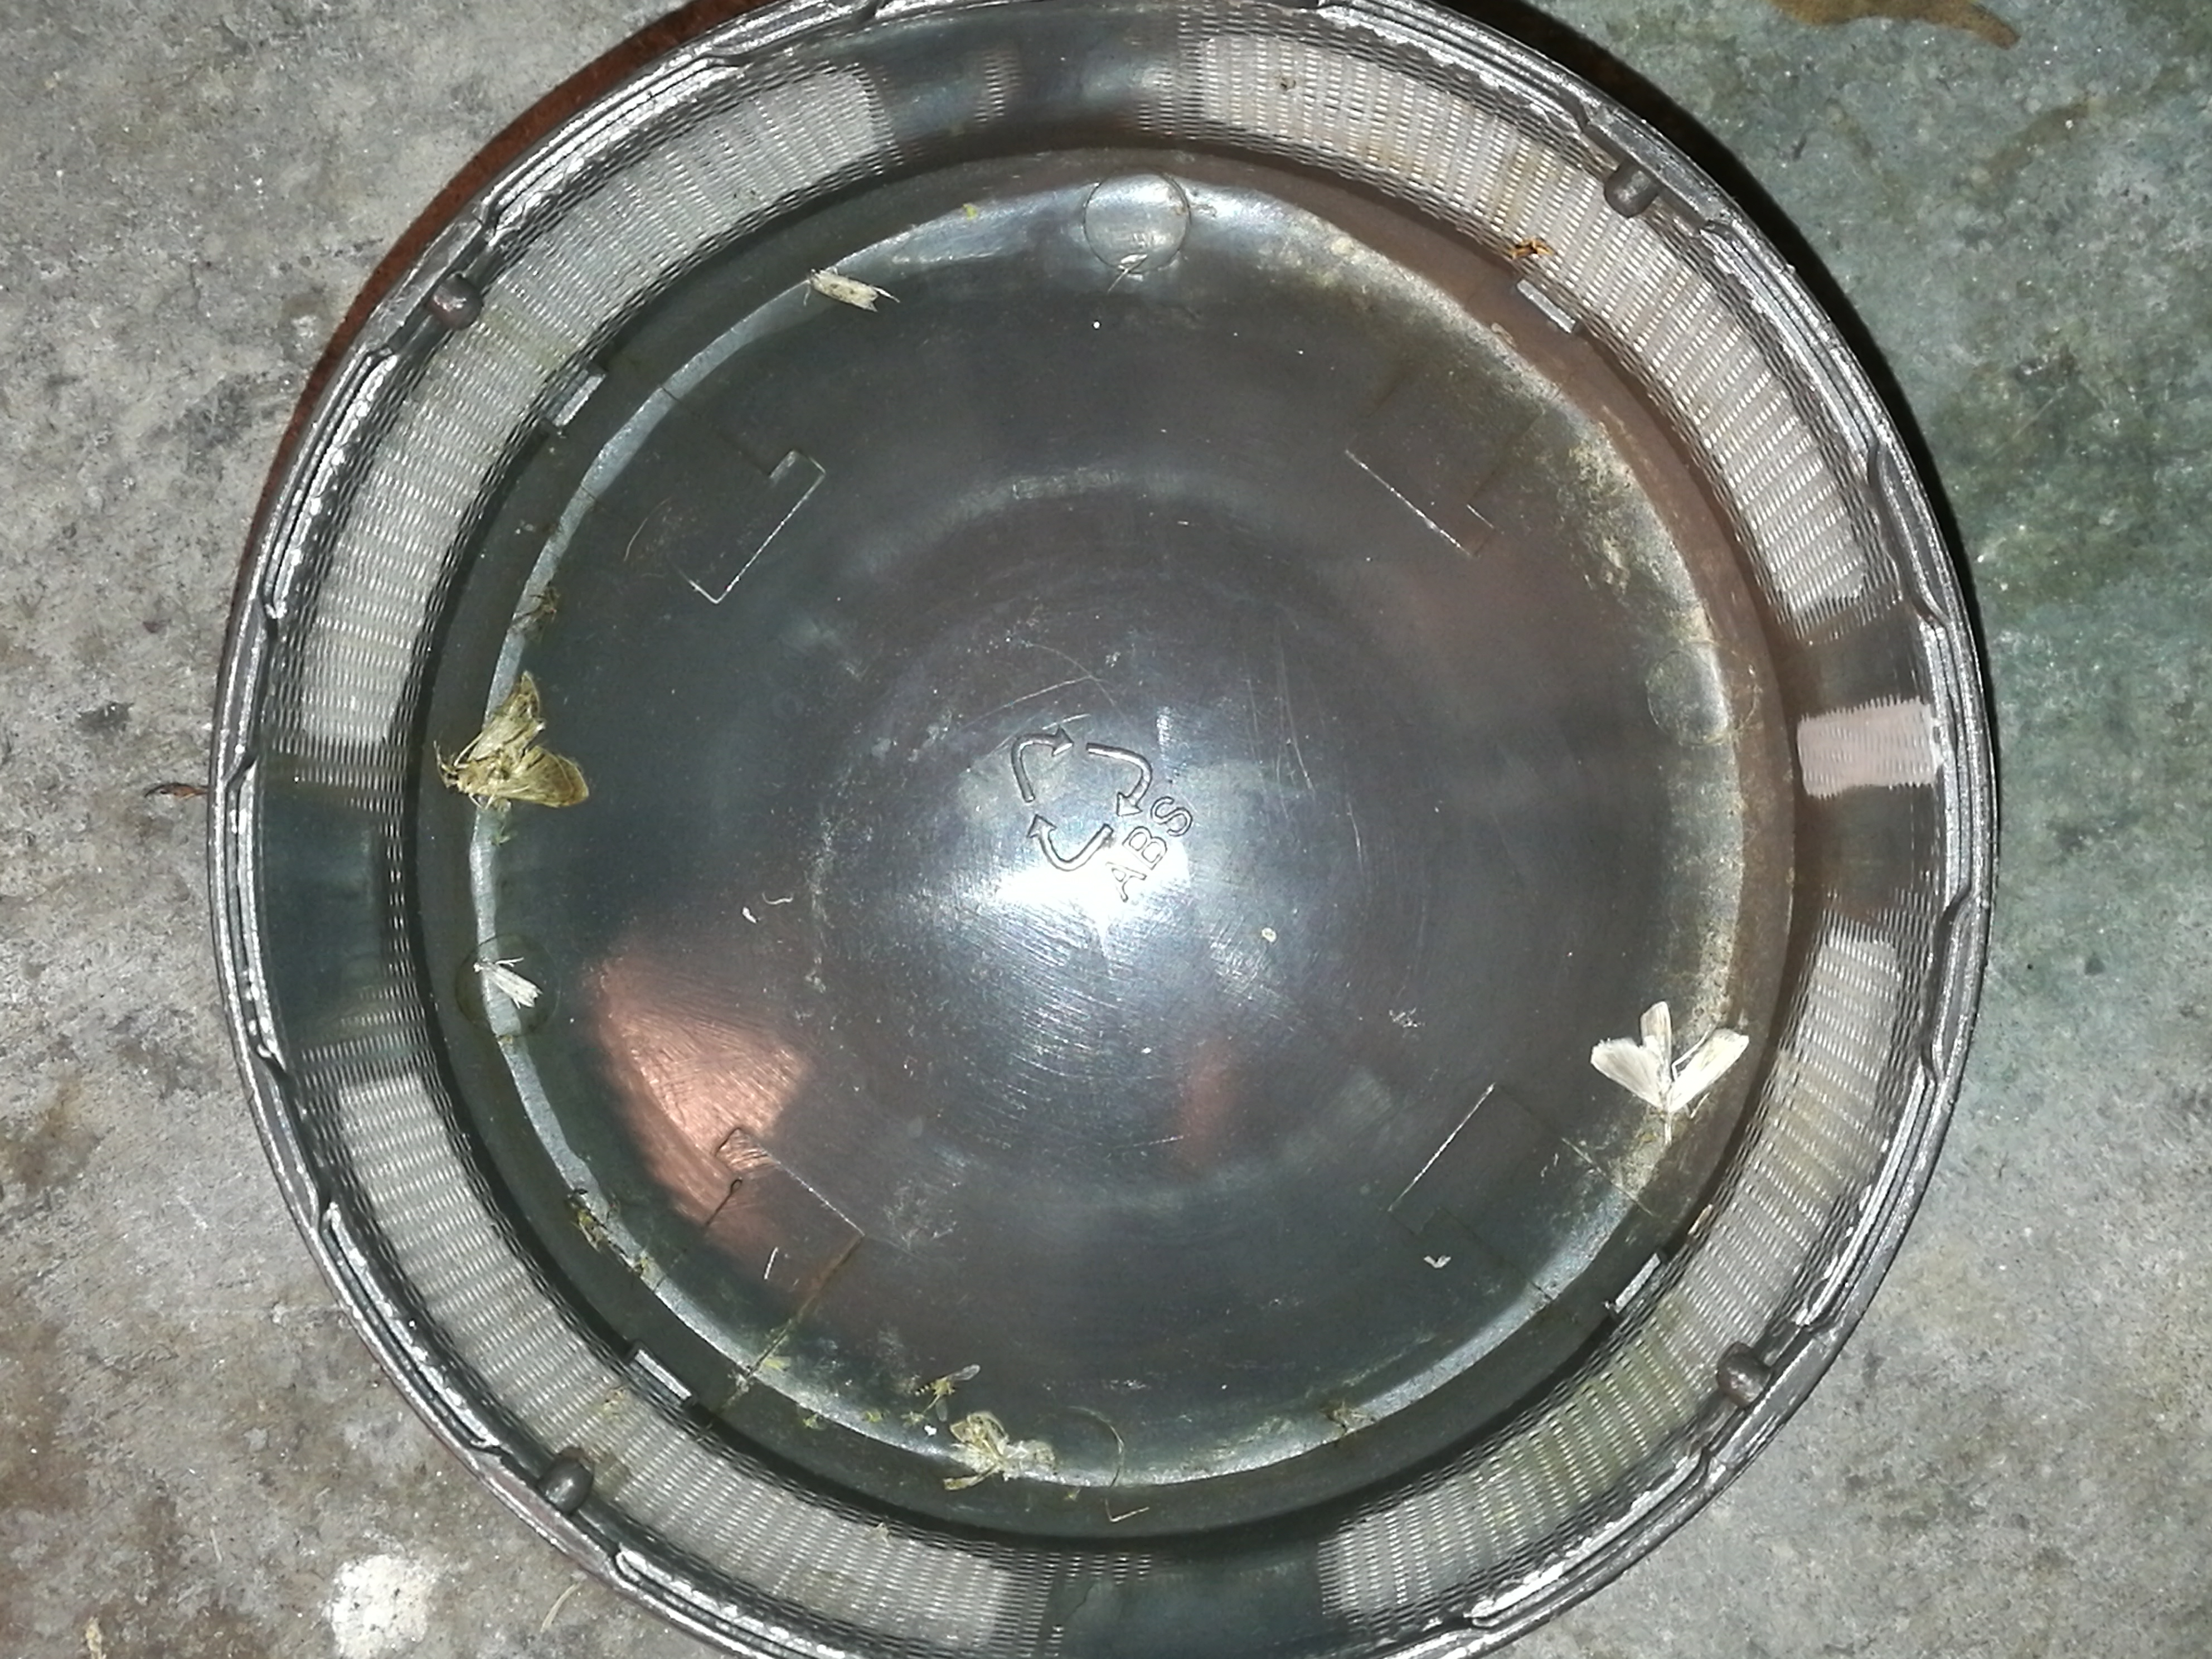mosquito: (475, 958, 540, 1007), (808, 270, 878, 312), (932, 1366, 982, 1398)
moth: (441, 671, 587, 807), (1592, 1002, 1752, 1121), (941, 1410, 1055, 1490)
